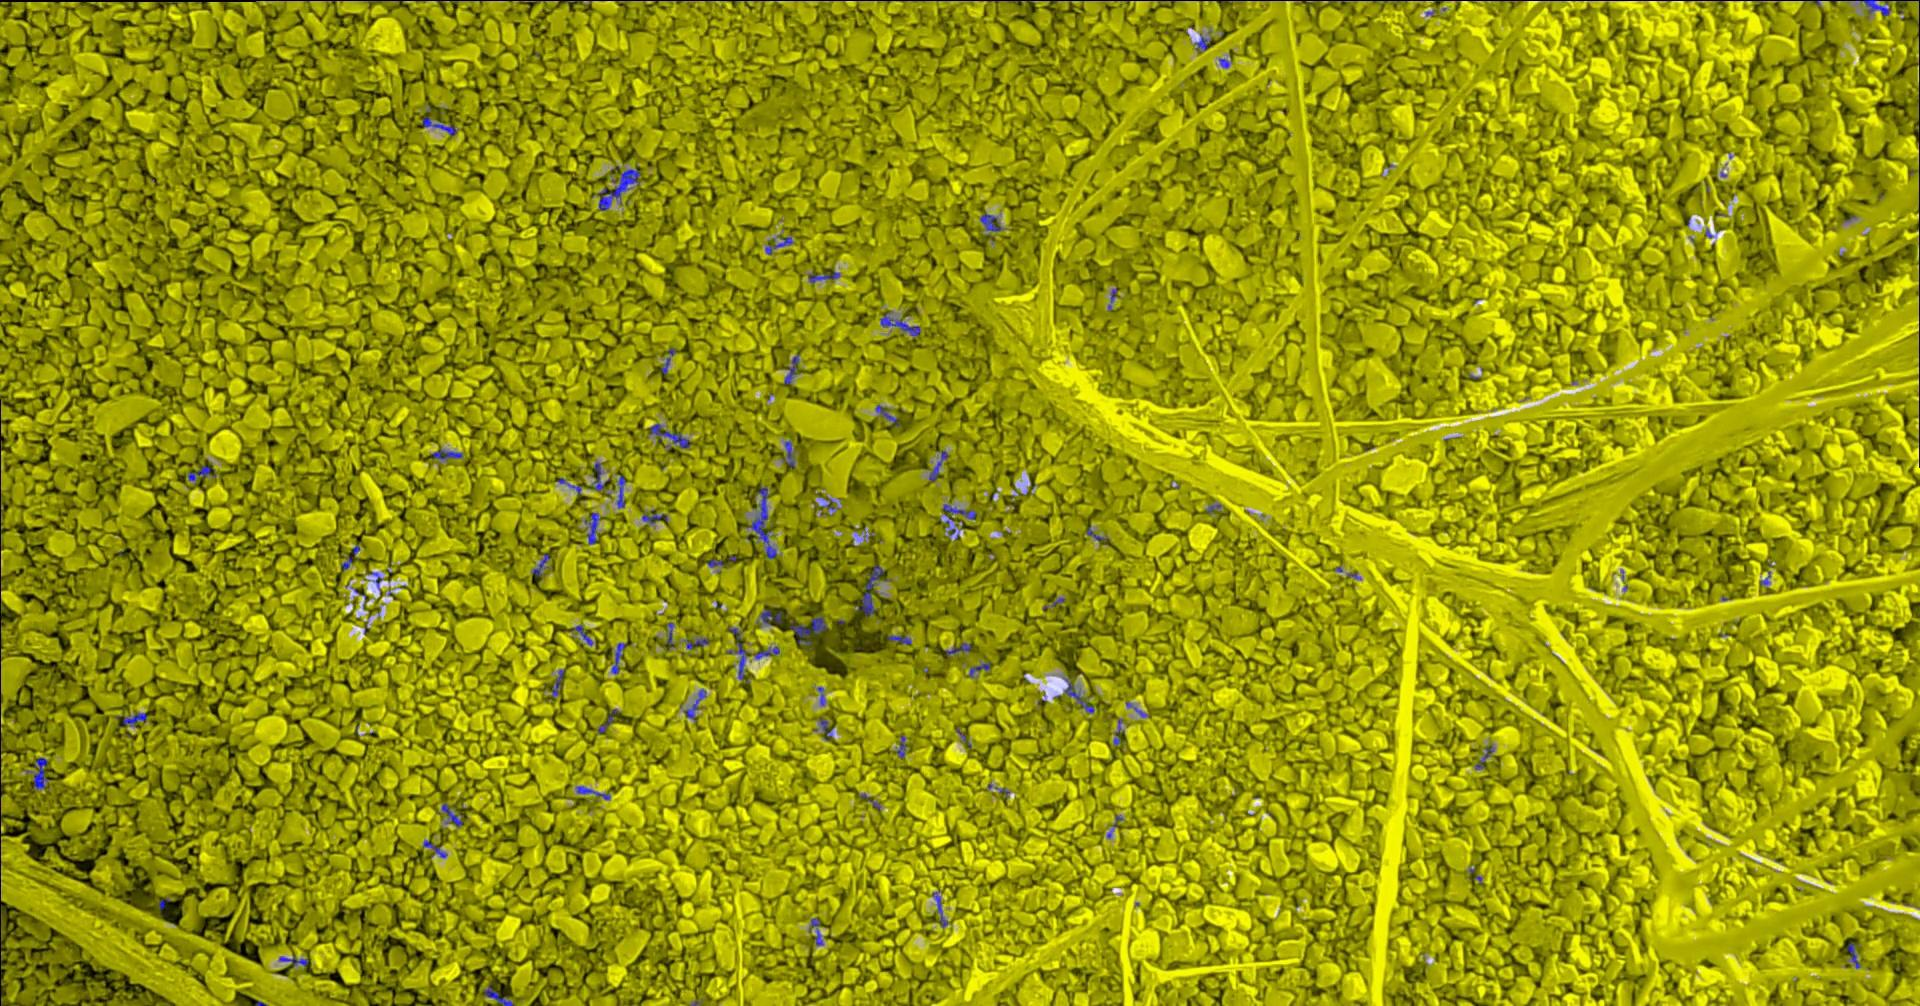ant: (747, 486, 776, 558), (597, 164, 639, 210), (855, 565, 883, 615), (789, 615, 827, 649), (942, 503, 977, 539), (1063, 677, 1093, 713), (649, 423, 690, 448), (728, 627, 747, 680), (879, 312, 919, 335), (483, 983, 513, 1005), (422, 116, 456, 135), (684, 688, 705, 720), (928, 450, 949, 480), (931, 890, 947, 927), (979, 213, 1003, 236), (590, 462, 610, 490), (32, 757, 48, 789), (1855, 0, 1890, 15), (875, 404, 899, 426), (441, 803, 462, 827), (584, 511, 599, 544), (764, 236, 792, 254), (569, 624, 592, 645), (597, 709, 617, 733), (611, 641, 626, 673), (575, 785, 610, 799), (1084, 526, 1109, 544), (423, 840, 447, 857), (783, 353, 797, 384), (187, 465, 215, 480), (660, 347, 676, 373), (1476, 746, 1493, 768), (808, 271, 839, 283), (532, 553, 549, 577), (943, 641, 971, 655), (968, 661, 990, 677), (759, 608, 781, 625), (641, 509, 667, 523), (551, 668, 564, 696), (122, 713, 147, 727), (616, 474, 626, 507), (430, 448, 462, 459), (683, 636, 709, 649), (810, 917, 822, 945), (279, 955, 307, 967), (819, 716, 832, 741), (1846, 942, 1859, 967), (782, 441, 794, 467), (1112, 719, 1124, 746), (753, 647, 778, 658), (1194, 36, 1211, 51), (664, 622, 674, 649), (886, 635, 910, 644), (897, 735, 905, 758)
